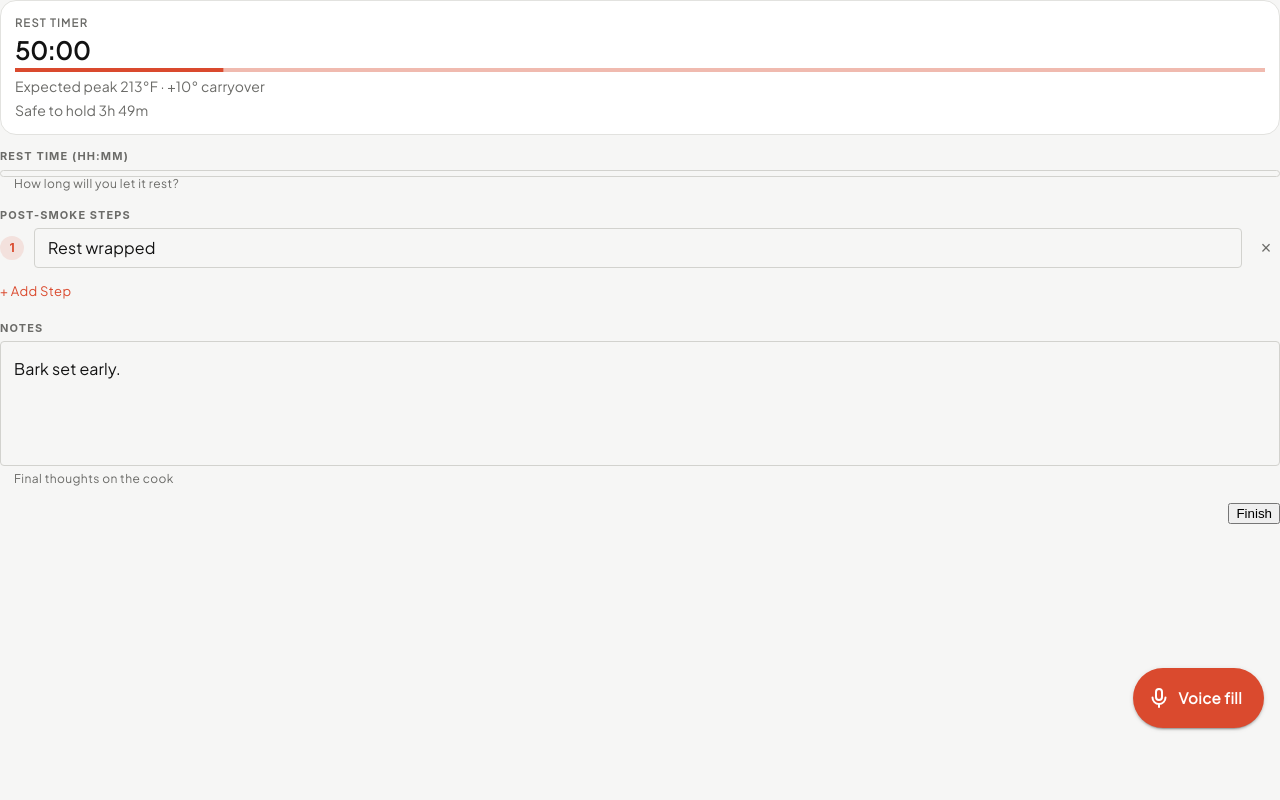
Test: Voice Fill on the post-smoke screen › a rest the cook already has is not offered again
This screenshot has width=1280, height=800.
Expected: the text box showing "Bark set early." is shown, x1=14 y1=357 x2=1266 y2=449
Click the button "Voice fill".
click(1198, 698)  # box x1=1133 y1=668 x2=1264 y2=728
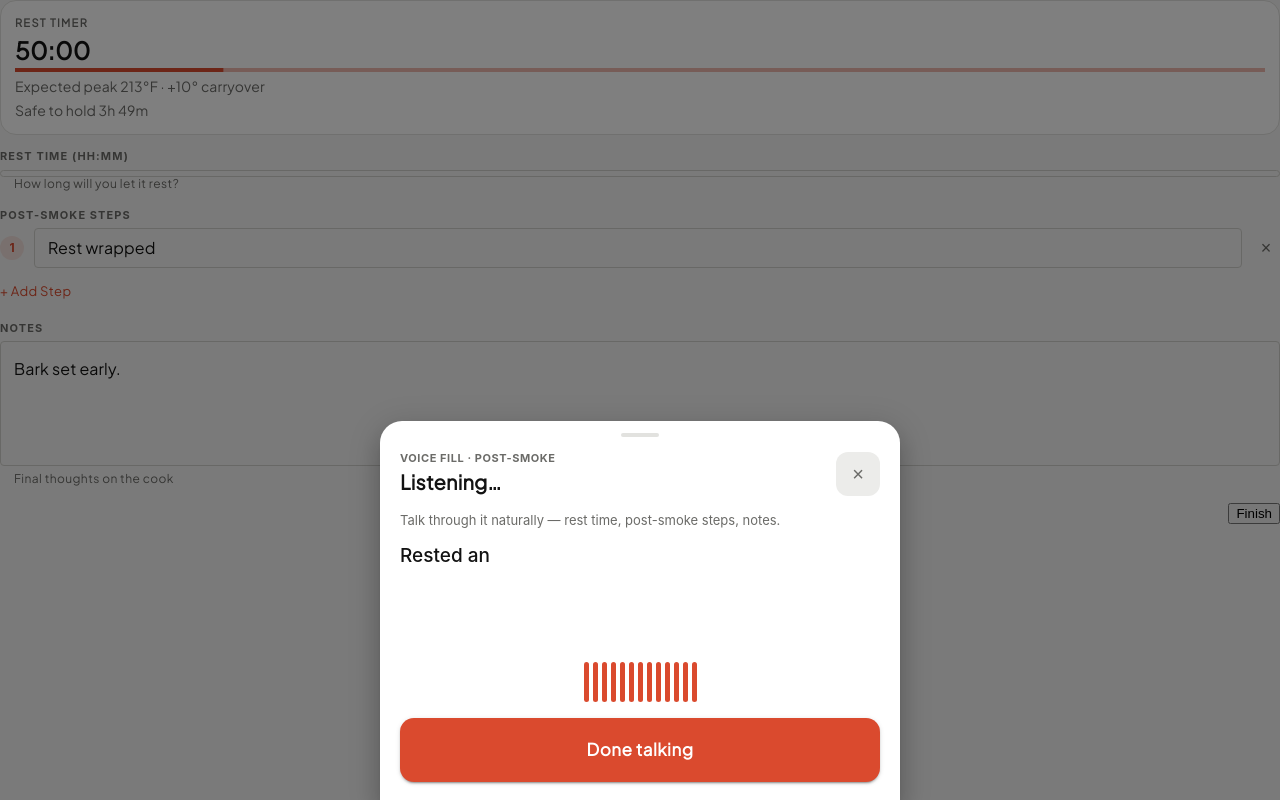
Click the button "Done talking".
click(640, 750)  # box x1=400 y1=718 x2=880 y2=782
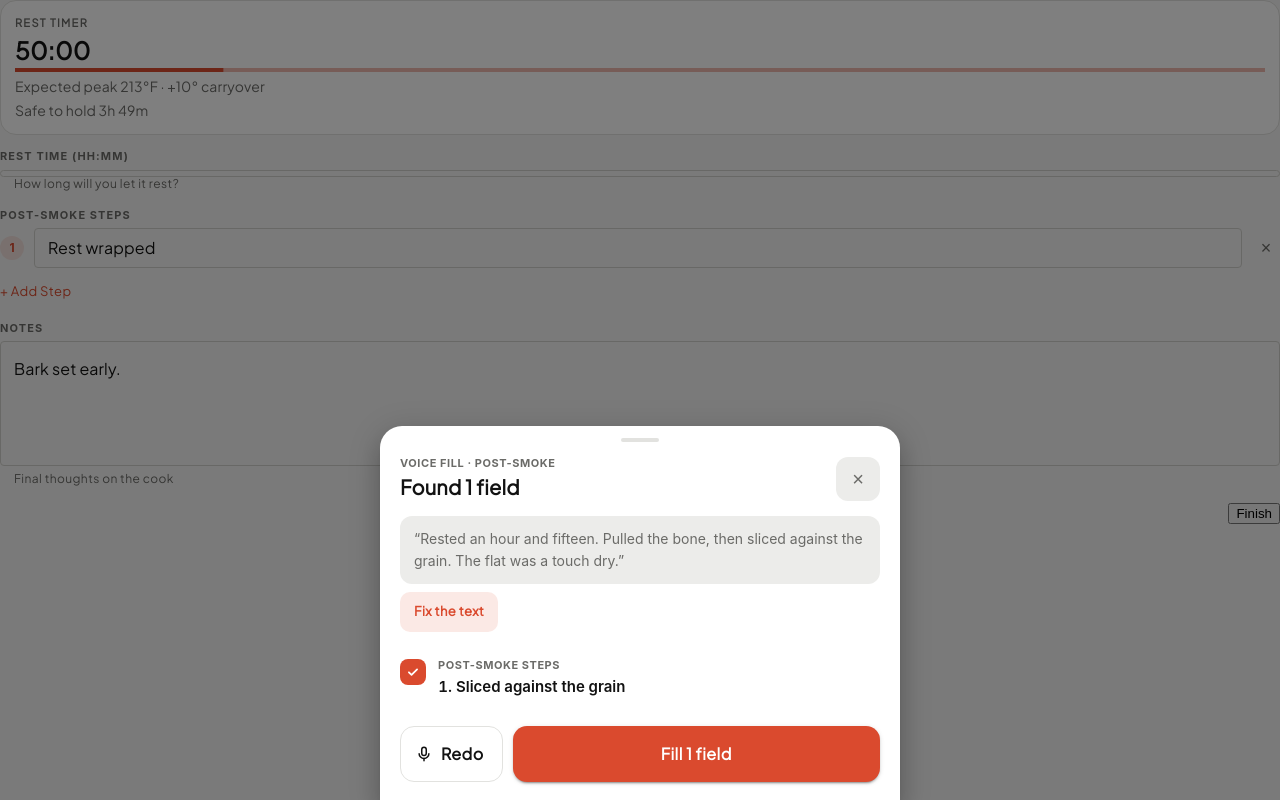
Now the heading "Found 1 field" is shown, box x1=400 y1=474 x2=520 y2=499
Now the checkbox labelled "Post-smoke steps Sliced against the grain" is shown, box x1=400 y1=646 x2=880 y2=710
